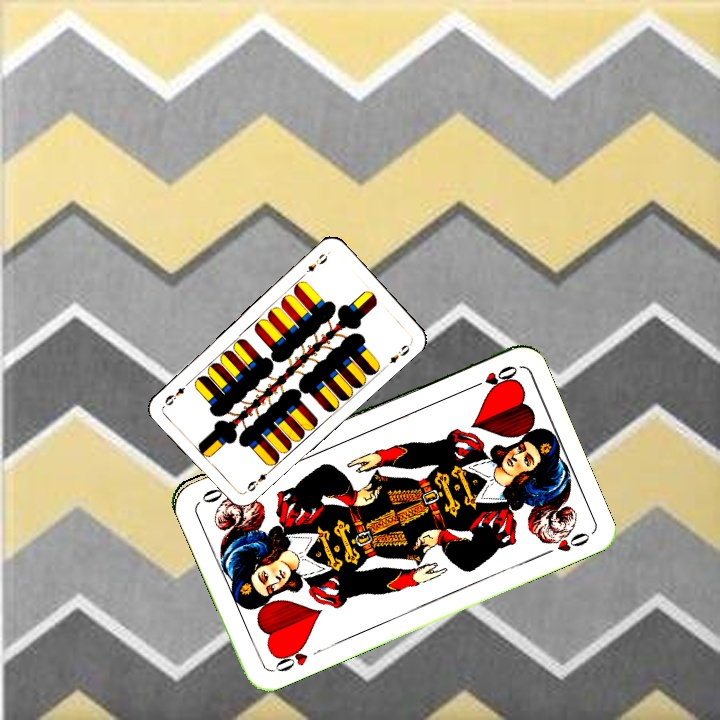E9: (240, 465, 274, 496), (303, 249, 330, 275)
HO: (269, 639, 325, 675), (464, 361, 521, 393)
